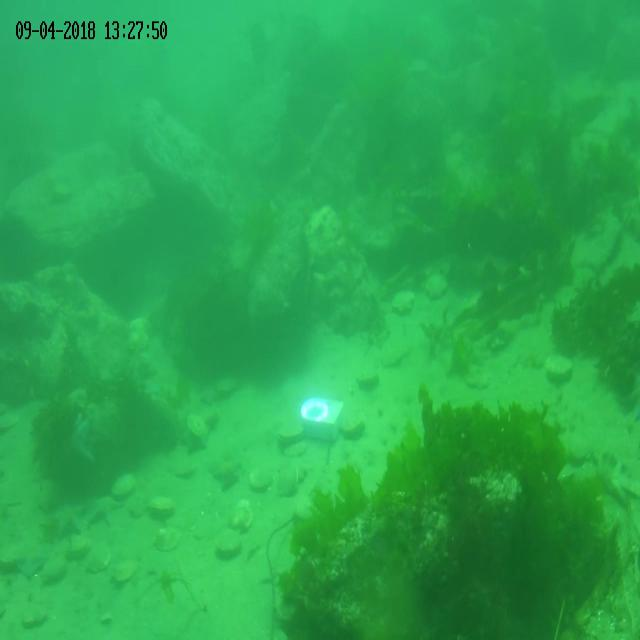scallop: (79, 542, 113, 574), (544, 348, 574, 382), (340, 409, 370, 443), (111, 467, 137, 503), (110, 556, 142, 585), (215, 526, 242, 560), (463, 360, 492, 391), (229, 498, 254, 532), (153, 525, 182, 554), (424, 269, 448, 302), (276, 418, 306, 444), (42, 553, 68, 583), (249, 463, 275, 492), (148, 492, 177, 518), (65, 534, 91, 562), (1, 540, 23, 573), (20, 602, 48, 627), (392, 287, 416, 316), (216, 374, 242, 397), (0, 403, 19, 434), (284, 440, 308, 458)
starfish: (86, 491, 124, 529), (50, 500, 86, 540), (69, 413, 96, 463), (213, 454, 242, 493), (16, 547, 46, 582), (184, 426, 210, 456), (200, 386, 220, 410)
